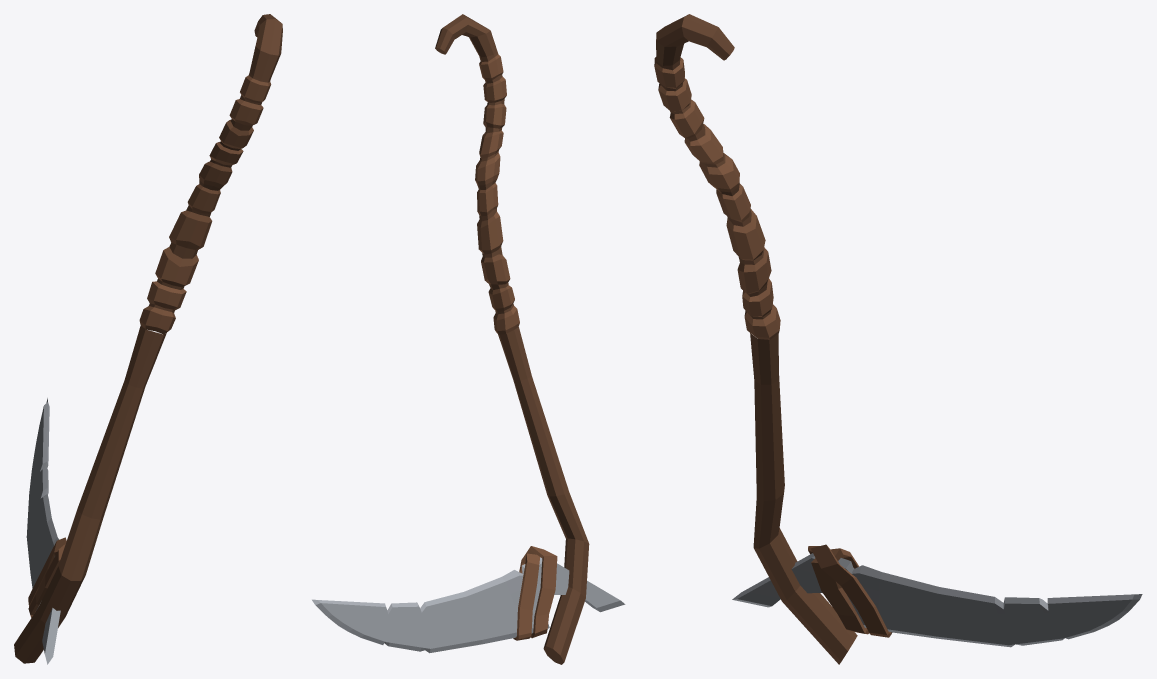
Rendered from Scythe-C6EzzeZf.glb.
3 views of the same model, side by side, from view 1: azimuth 30°, elevation 25°; view 2: azimuth 150°, elevation 25°; view 3: azimuth 270°, elevation 25° (orthographic). The views are drawn at different scales.
Parts seen in each view (by area): view 1: Scythe.001; view 2: Scythe.001; view 3: Scythe.001.
Boxes of the visible parts, x1,y1,x2,y2 form: Scythe.001: (14, 14, 282, 664); Scythe.001: (312, 14, 625, 664); Scythe.001: (654, 14, 1142, 664).
Size of the model in its own units: 0.6194 by 1.75 by 1.04.
